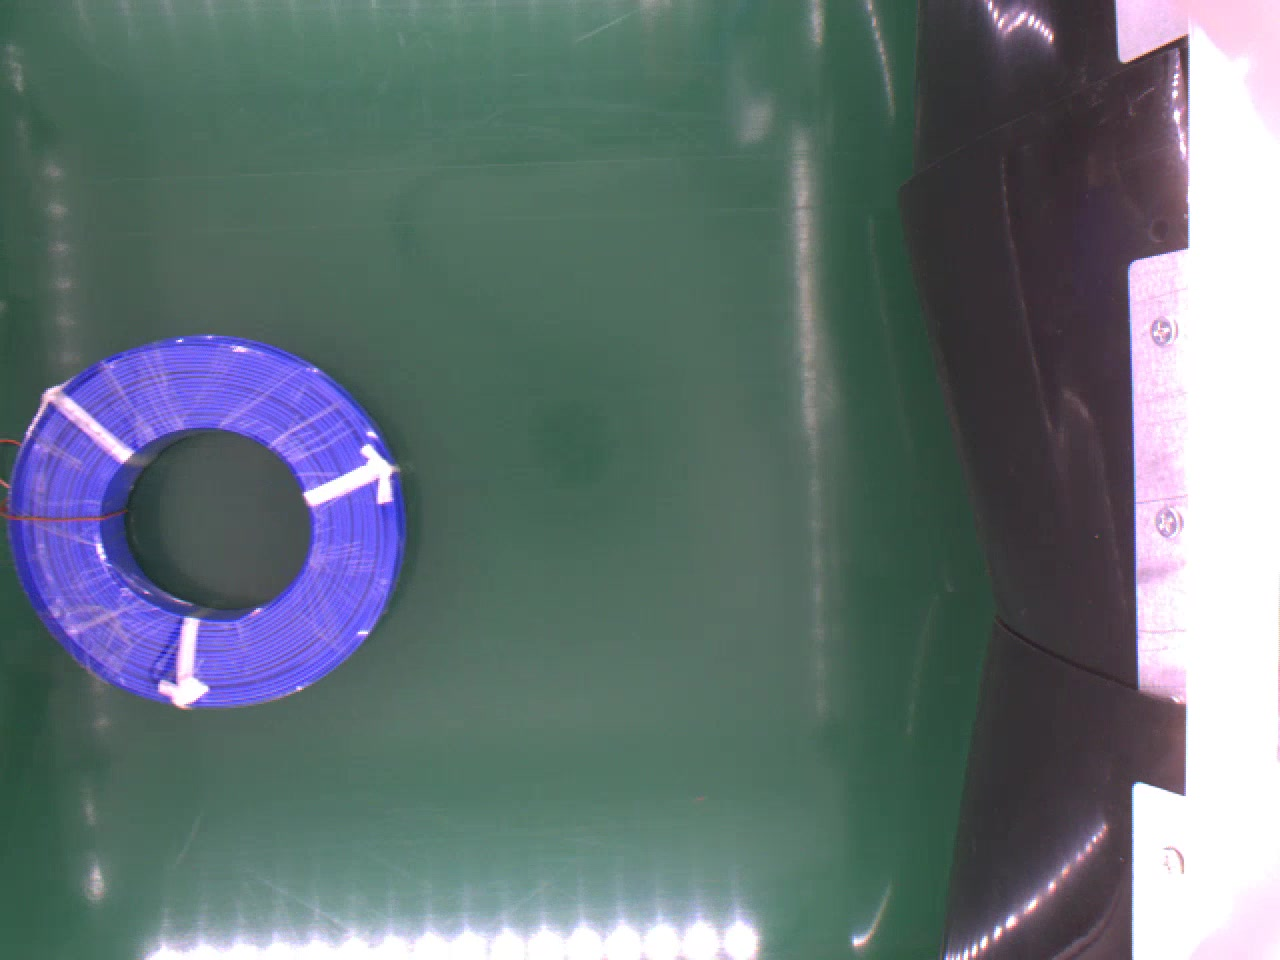blue: (10, 332, 403, 704)
